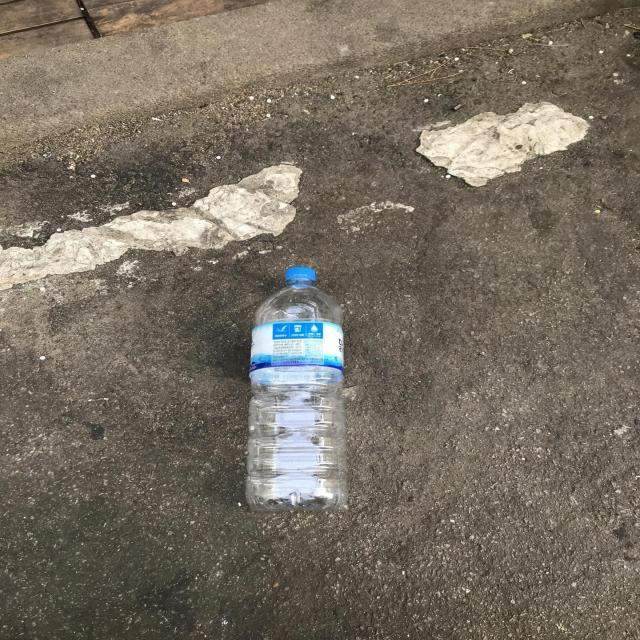plastic: (246, 267, 348, 512)
